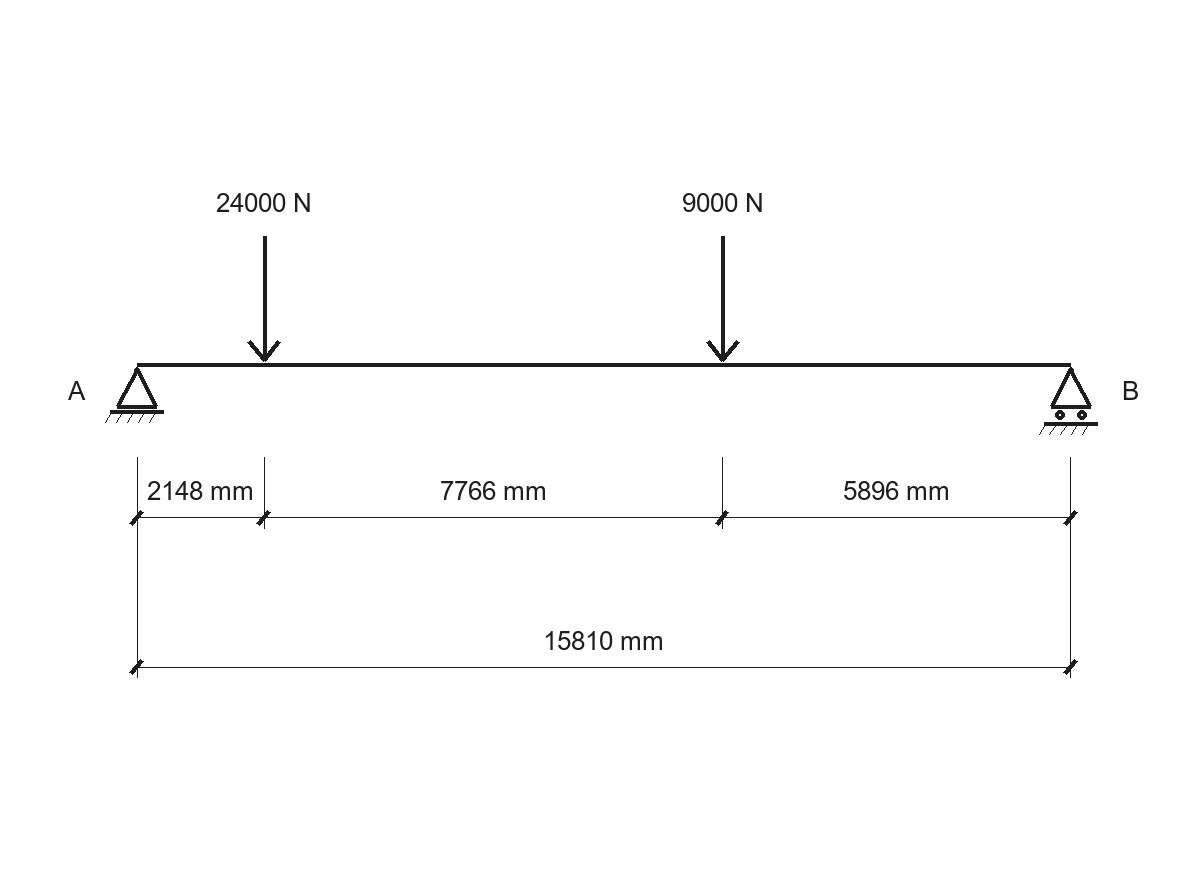pin_support: (105, 367, 164, 423)
point_load: (247, 236, 281, 362), (706, 236, 740, 362)
roller_support: (1039, 367, 1098, 435)
